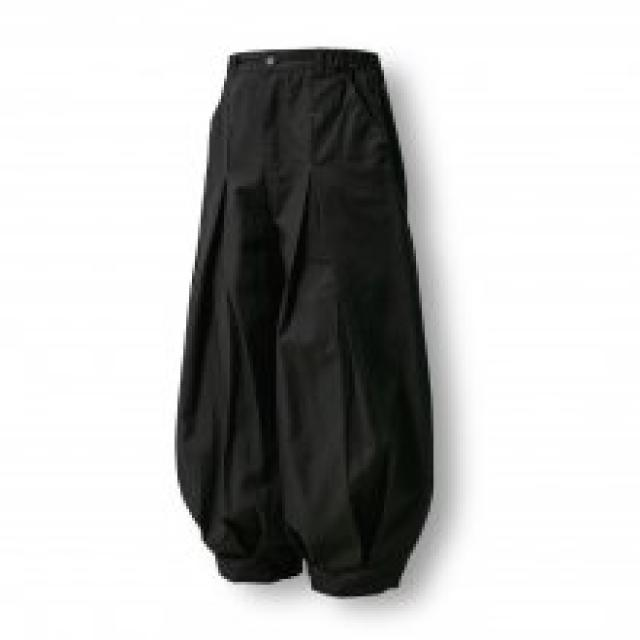long-pants: (170, 43, 432, 603)
